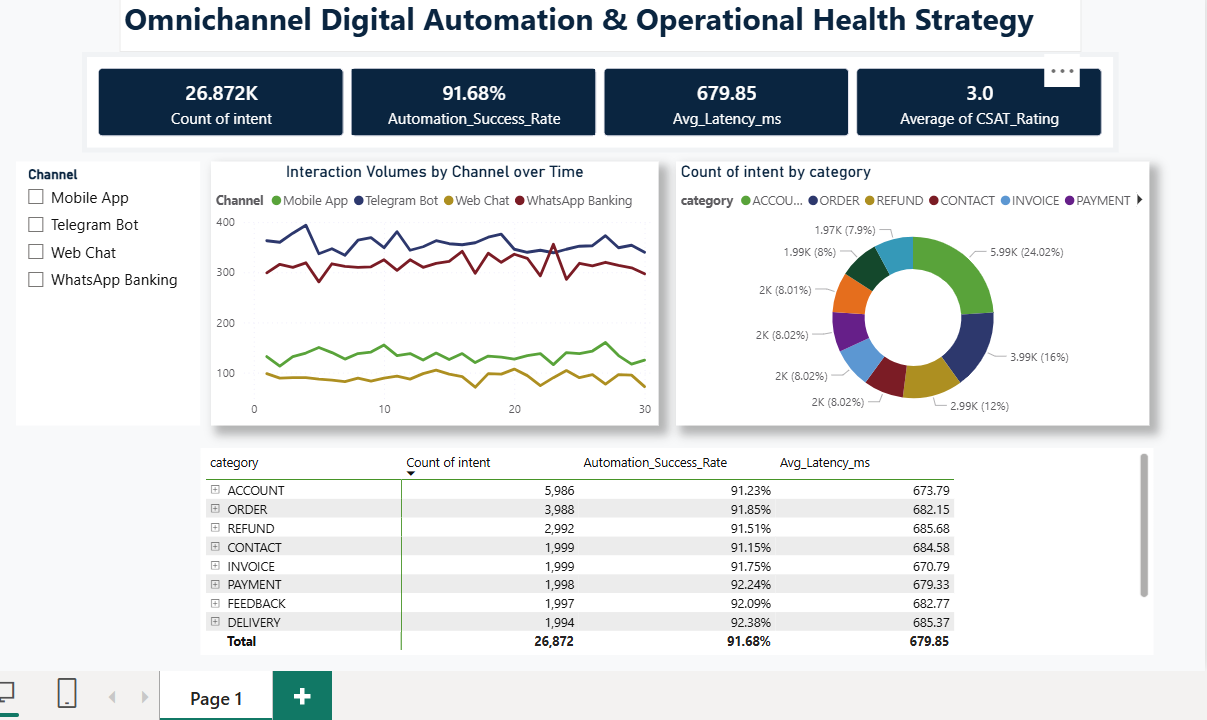

This screenshot's page, from the dashboard's own definition file:
{"tool":"powerbi","page":{"name":"Page 1","canvas":[1280,720],"ordinal":0},"visuals":[{"type":"cardVisual","fields":{"Data":["CountNonNull(Fact_Bot_Logs.intent)","Fact_Bot_Logs.Automation_Success_Rate","Fact_Bot_Logs.Avg_Latency_ms","Avg(Fact_Bot_Logs.CSAT_Rating)"]},"box":[89.1,63.6,1099.1,106.6],"z":0},{"type":"lineChart","title":"Interaction Volumes by Channel over Time","fields":{"Category":["Fact_Bot_Logs.Timestamp.Variation.Date Hierarchy.Year","Fact_Bot_Logs.Timestamp.Variation.Date Hierarchy.Quarter","Fact_Bot_Logs.Timestamp.Variation.Date Hierarchy.Month","Fact_Bot_Logs.Timestamp.Variation.Date Hierarchy.Day"],"Y":["CountNonNull(Fact_Bot_Logs.intent)"],"Series":["Fact_Bot_Logs.Channel"]},"box":[225.1,179.7,474.4,280.1],"z":1000},{"type":"donutChart","fields":{"Category":["Fact_Bot_Logs.category"],"Y":["CountNonNull(Fact_Bot_Logs.intent)"]},"box":[718.9,179.7,502,280.1],"z":2000},{"type":"pivotTable","fields":{"Rows":["Fact_Bot_Logs.category","Fact_Bot_Logs.intent"],"Values":["CountNonNull(Fact_Bot_Logs.intent)","Fact_Bot_Logs.Automation_Success_Rate","Fact_Bot_Logs.Avg_Latency_ms"]},"box":[214.7,483.5,1010,219.5],"z":3000},{"type":"slicer","fields":{"Values":["Fact_Bot_Logs.Channel"]},"box":[19.1,179.7,195.6,279.9],"z":4000},{"type":"textbox","box":[128.8,0,1019.6,63.6],"z":5000}]}

Visuals, with their boxes on the page's 1280x720 design canvas (x1, y1, x2, y2). These are canvas units, not pixel positions in the 1207x720 screenshot, which may show the page scaled, cropped or inside an application window:
cardVisual - CountNonNull(Fact_Bot_Logs.intent) x Fact_Bot_Logs.Automation_Success_Rate: bbox=[89, 64, 1188, 170]
"Interaction Volumes by Channel over Time" lineChart: bbox=[225, 180, 700, 460]
donutChart - Fact_Bot_Logs.category x CountNonNull(Fact_Bot_Logs.intent): bbox=[719, 180, 1221, 460]
pivotTable - Fact_Bot_Logs.category x Fact_Bot_Logs.intent: bbox=[215, 484, 1225, 703]
slicer - Fact_Bot_Logs.Channel: bbox=[19, 180, 215, 460]
textbox: bbox=[129, 0, 1148, 64]
